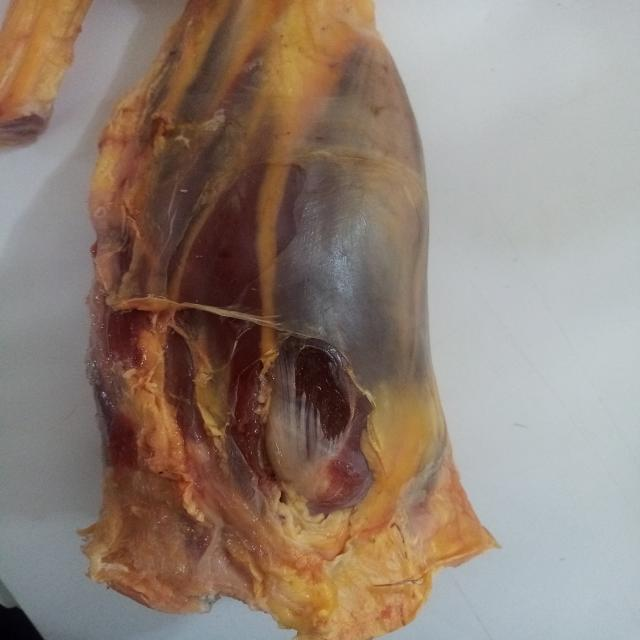beef: (72, 0, 536, 640)
